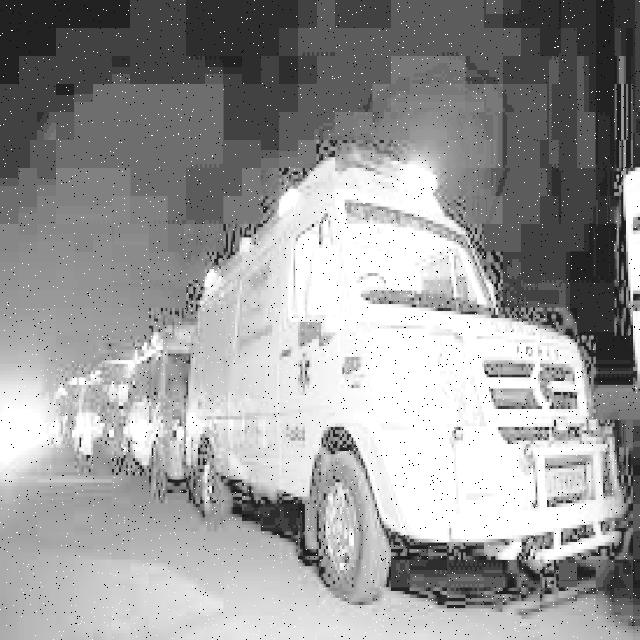Ambulance: (195, 136, 630, 574)
